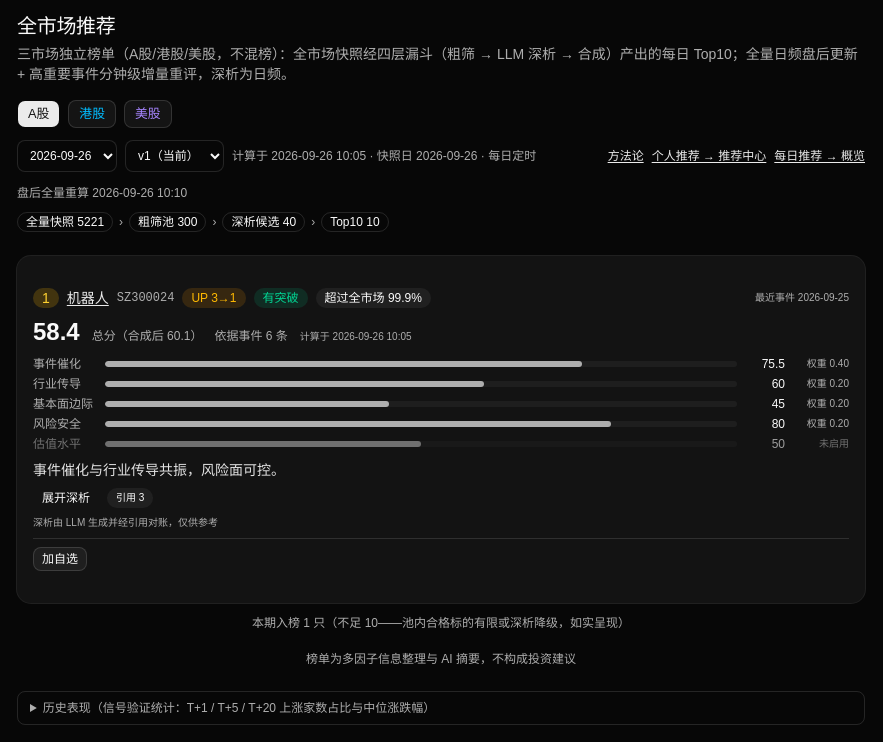
MarketTop 全市场推荐页（T184，#/market-top 第 20 页） › 加自选失败：就地提示可重试，不打断榜单
Expected: the element with test id "market-top-card-SZ300024" is shown, [17,256,865,603]
Click the button with test id "market-top-addwatch-SZ300024": (60, 559) [33,547,87,571]
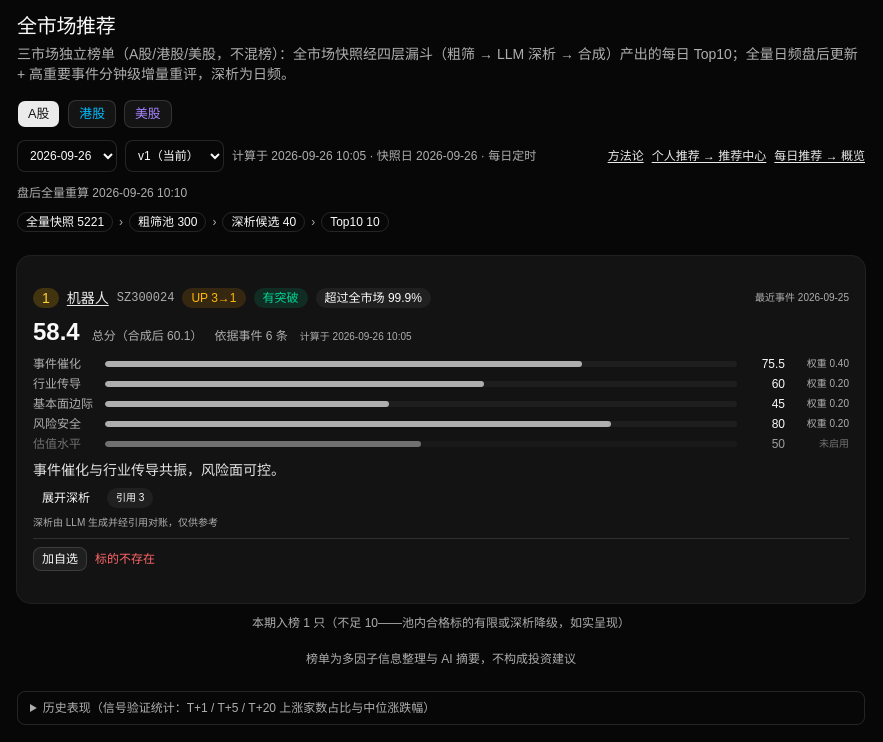
Now the message with test id "market-top-watch-error-SZ300024" reads "标的不存在", box [95,552,155,566]
